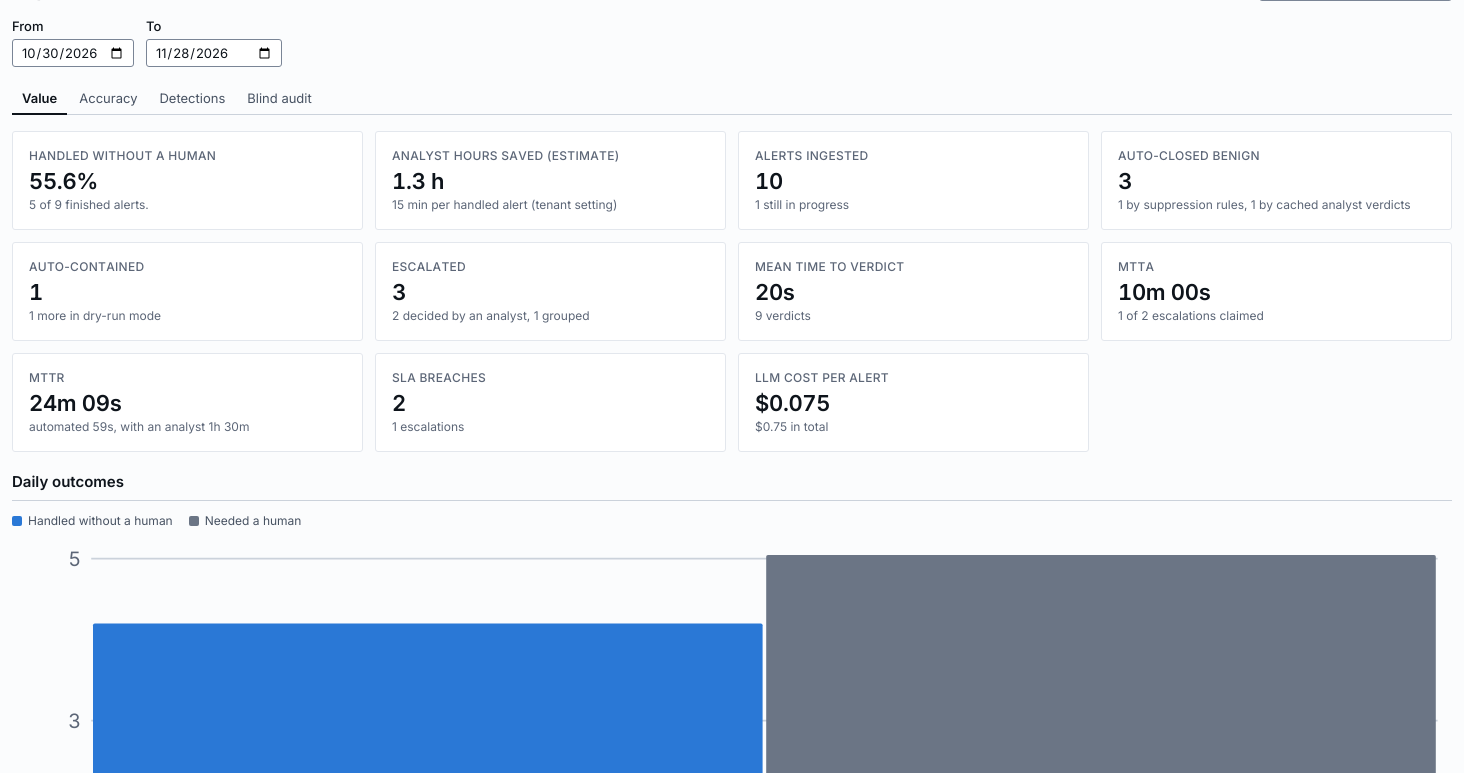
Test: ReportsPage › flags insufficient accuracy data and shows the confusion matrix
This screenshot has width=1464, height=773.
Click the tab "Accuracy". click: click(108, 99)
box: x1=69 y1=83 x2=148 y2=115
(page scrolled)
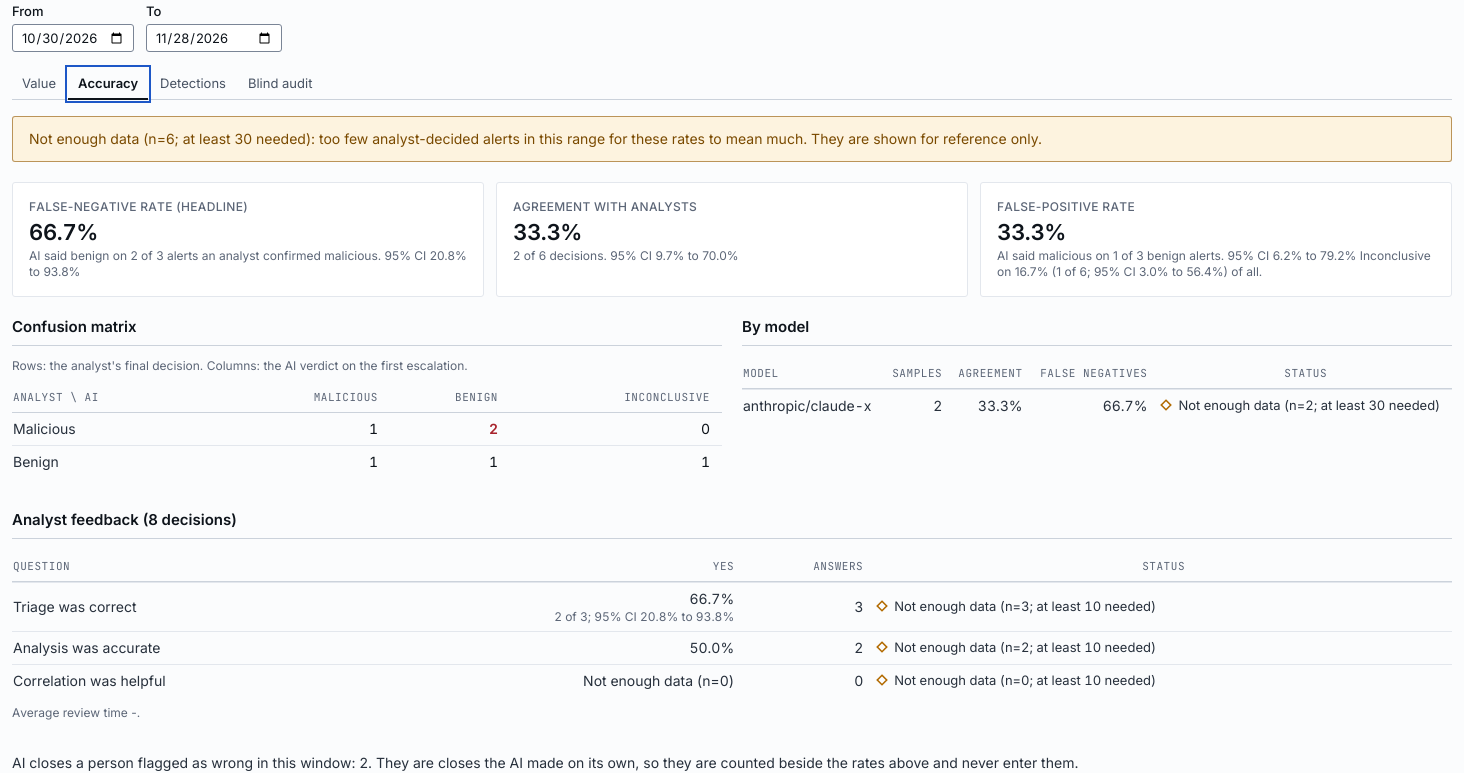
Expected: the text "Not enough data (n=6; at least 30 needed)" is shown, x1=29 y1=130 x2=311 y2=147
Expected: the text "2 of 3 alerts an analyst confirmed malicious. 95% CI 20.8% to 93.8%" is shown, x1=29 y1=248 x2=467 y2=280
Expected: the text "2 of 6 decisions. 95% CI 9.7% to 70.0%" is shown, x1=513 y1=248 x2=738 y2=263
